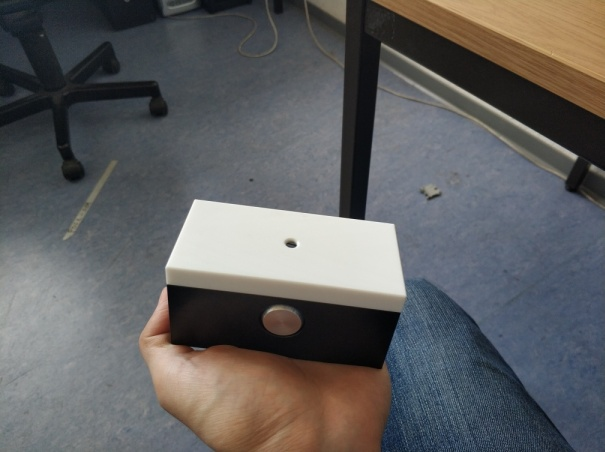white+black+silver: (161, 195, 412, 371)
